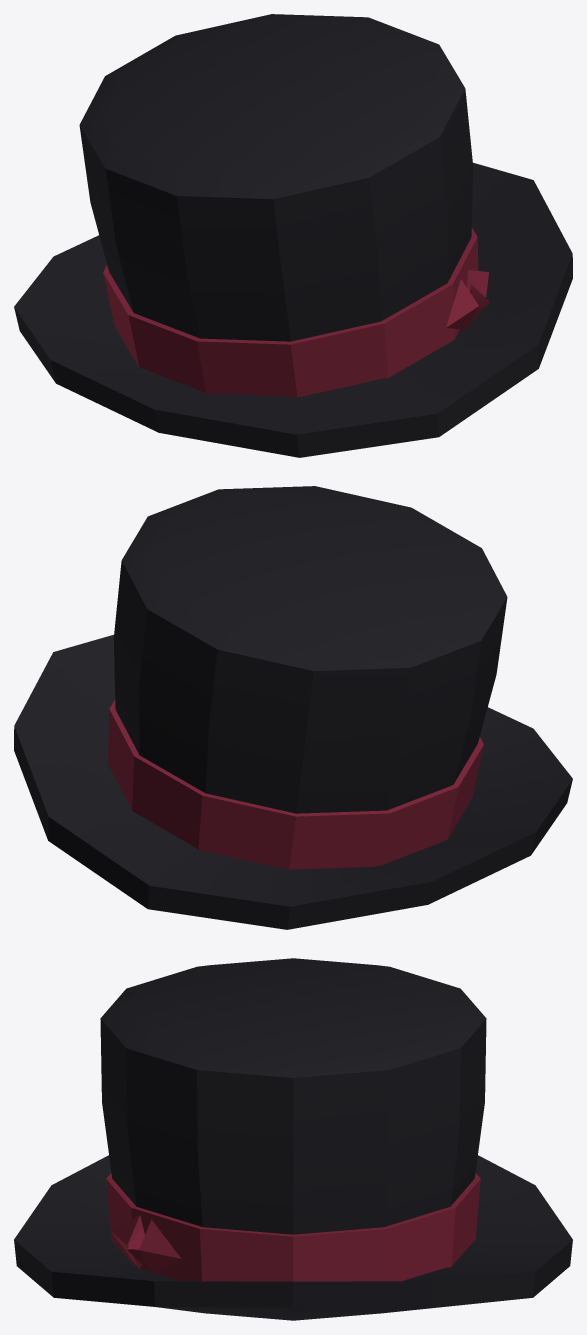
The model's file is mak_v2_tophat.glb.
3 renders of one model, top to bottom at view 1: azimuth 30°, elevation 25°; view 2: azimuth 150°, elevation 25°; view 3: azimuth 270°, elevation 25°, orthographic.
Visible parts, largest first — view 1: mak_tophat; view 2: mak_tophat; view 3: mak_tophat.
Boxes of the visible parts, box(x1,y1,x2,y2) form: mak_tophat: box(14, 14, 572, 457); mak_tophat: box(14, 486, 572, 929); mak_tophat: box(14, 958, 572, 1320).
Bounding box in the file's own units: 0.4777 × 0.2662 × 0.4808.
